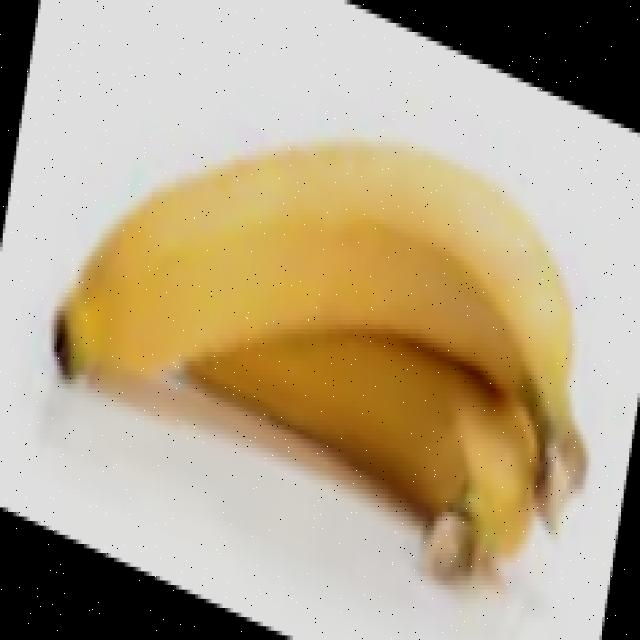god quality banana: (52, 146, 586, 567)
